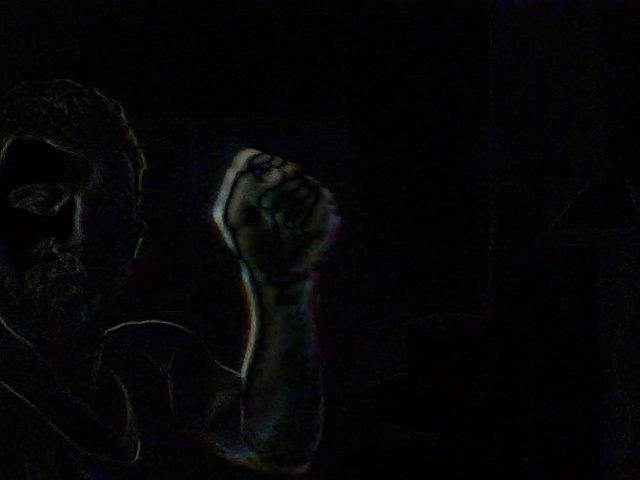hand_fi: (203, 141, 352, 283)
